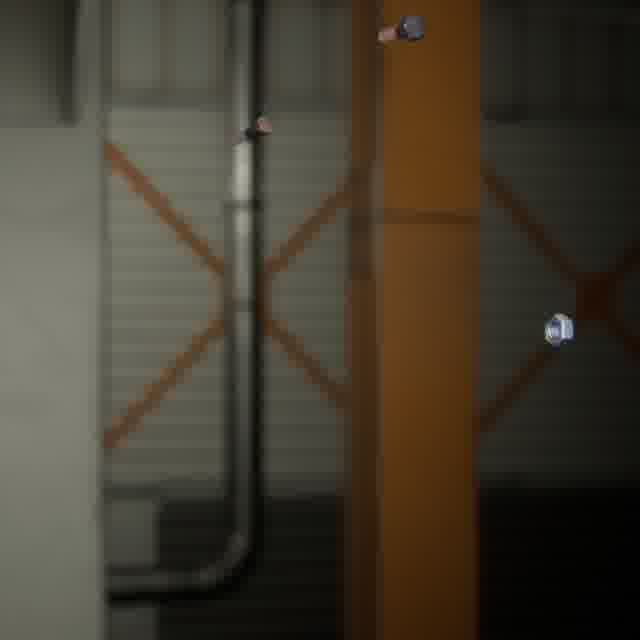bolt: (217, 109, 279, 152), (373, 10, 431, 48)
nut: (540, 309, 577, 351)
